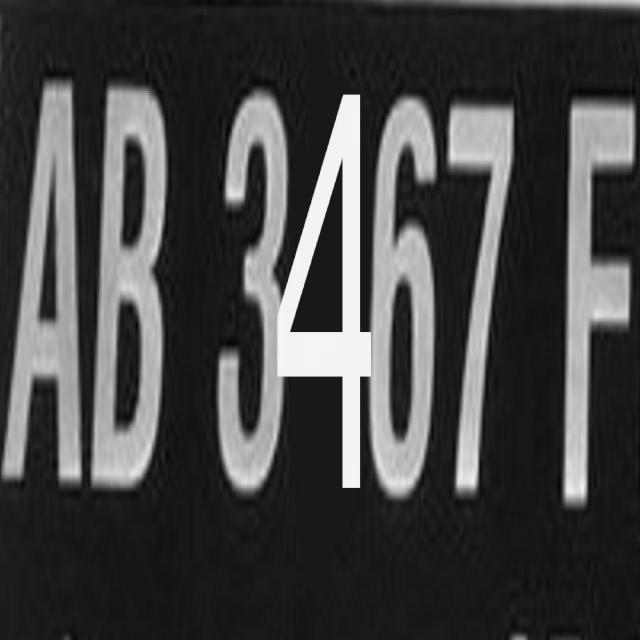3: (210, 88, 286, 493)
4: (293, 86, 373, 508)
6: (365, 90, 443, 516)
7: (440, 96, 530, 510)
A: (6, 72, 92, 494)
B: (89, 78, 179, 498)
F: (560, 88, 640, 515)
